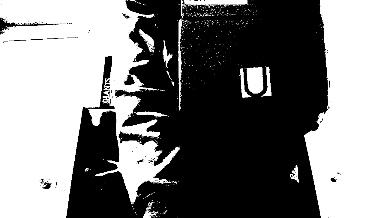U: (239, 68, 270, 97)
